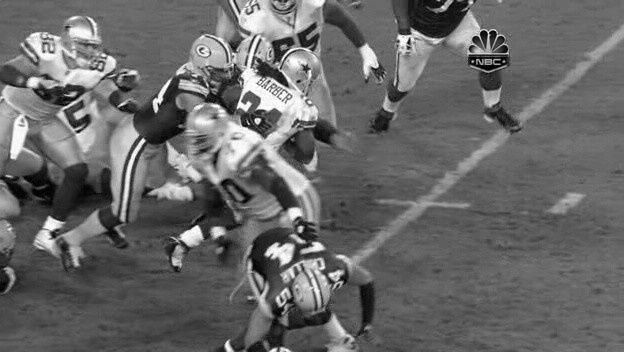person: (285, 49, 320, 94), (284, 49, 319, 94), (286, 49, 321, 94), (285, 48, 320, 93), (285, 50, 320, 95)
target_negative: (564, 29, 624, 229), (558, 35, 579, 317), (479, 79, 512, 233), (210, 175, 416, 197), (470, 272, 611, 280), (204, 293, 294, 302)
